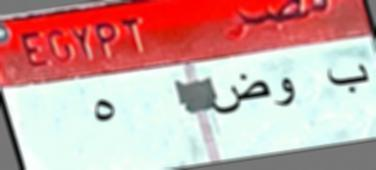5: (89, 91, 120, 126)
baa: (324, 59, 372, 99)
daad: (216, 72, 268, 119)
waw: (272, 70, 303, 110)
